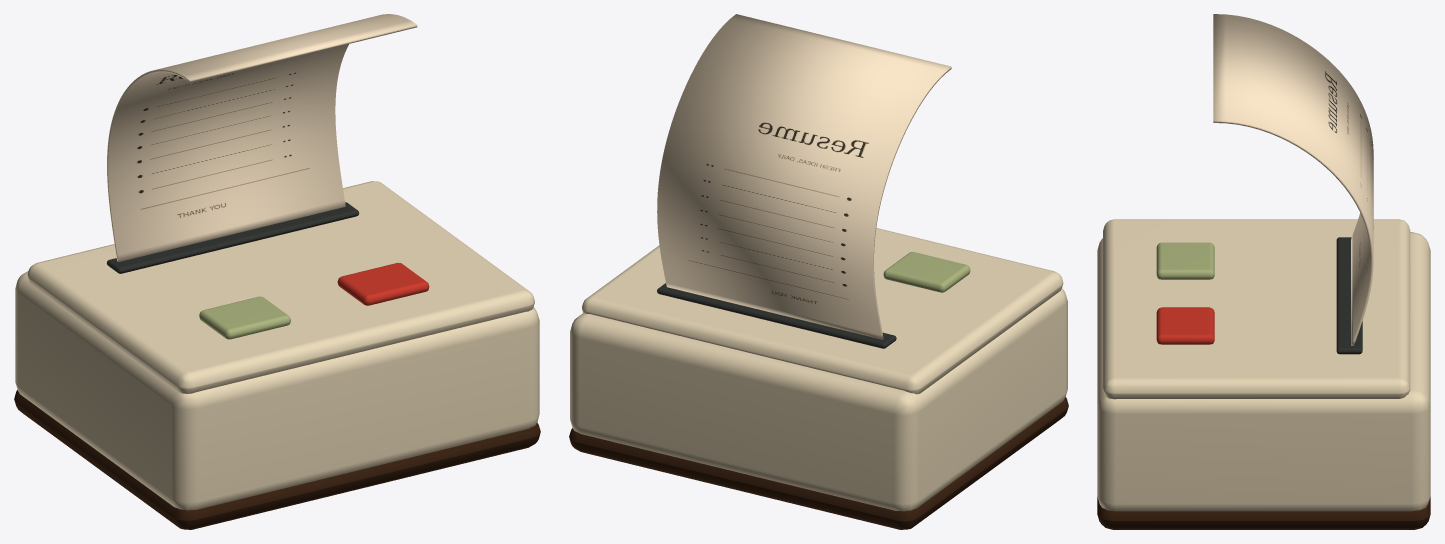
Rendered from receipt-printer.glb.
3 renders of one model, left to right at view 1: azimuth 30°, elevation 25°; view 2: azimuth 150°, elevation 25°; view 3: azimuth 270°, elevation 25°, orthographic. The views are drawn at different scales.
Visible parts, largest first — view 1: Printer ivory enclosure, Printer angled top, Resume printed curling receipt, Printer dark lower foot, Printer paper slot, Printer green key, Printer orange key; view 2: Resume printed curling receipt, Printer ivory enclosure, Printer angled top, Printer dark lower foot, Printer paper slot, Printer green key; view 3: Printer angled top, Printer ivory enclosure, Resume printed curling receipt, Printer dark lower foot, Printer orange key, Printer green key, Printer paper slot.
Part boxes in pixels (x1=…): Printer ivory enclosure: x1=15, y1=271, x2=539, y2=510; Printer angled top: x1=27, y1=181, x2=534, y2=393; Resume printed curling receipt: x1=107, y1=14, x2=417, y2=261; Printer dark lower foot: x1=14, y1=390, x2=540, y2=529; Printer paper slot: x1=107, y1=202, x2=359, y2=273; Printer green key: x1=199, y1=296, x2=290, y2=339; Printer orange key: x1=337, y1=263, x2=429, y2=305; Resume printed curling receipt: x1=657, y1=14, x2=951, y2=339; Printer ivory enclosure: x1=570, y1=288, x2=1067, y2=511; Printer angled top: x1=582, y1=228, x2=1063, y2=394; Printer dark lower foot: x1=569, y1=397, x2=1068, y2=529; Printer paper slot: x1=657, y1=283, x2=896, y2=348; Printer green key: x1=883, y1=252, x2=970, y2=292; Printer angled top: x1=1103, y1=219, x2=1410, y2=399; Printer ivory enclosure: x1=1097, y1=232, x2=1430, y2=511; Resume printed curling receipt: x1=1213, y1=14, x2=1373, y2=345; Printer dark lower foot: x1=1097, y1=497, x2=1430, y2=529; Printer orange key: x1=1156, y1=307, x2=1214, y2=344; Printer green key: x1=1156, y1=242, x2=1214, y2=279; Printer paper slot: x1=1336, y1=237, x2=1362, y2=354.
Size of the model in its own units: 2.8 by 2.91 by 2.3.
Materials: 6 (1 with a texture image).
